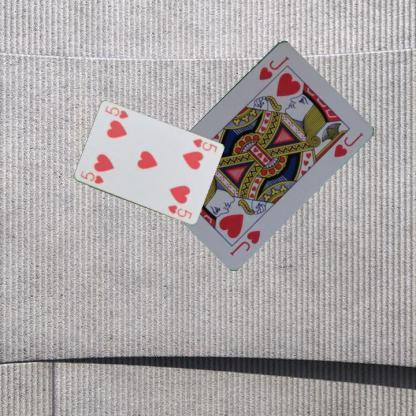5h: (190, 136, 218, 154), (78, 168, 104, 185)
Jh: (227, 227, 262, 257), (256, 54, 291, 82)
